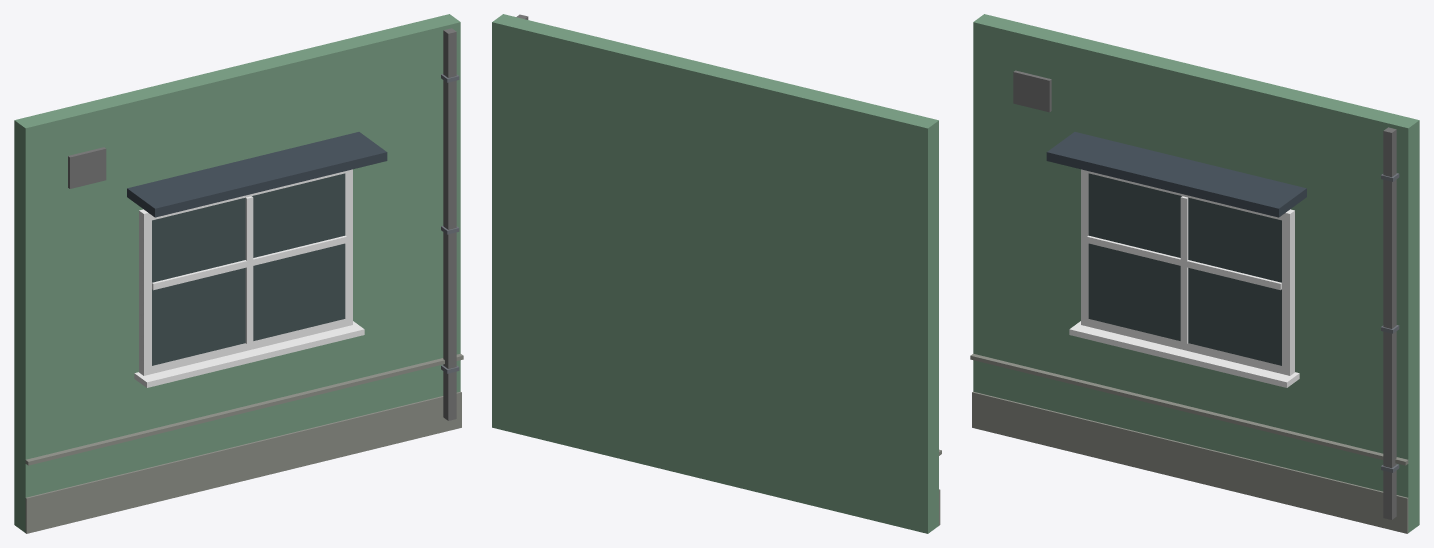
Rendered from mid-w1_close.fbx.
The picture shows the model from 3 angles, left to right: view 1: azimuth 30°, elevation 25°; view 2: azimuth 150°, elevation 25°; view 3: azimuth 330°, elevation 25°; orthographic projection.
Visible parts, largest first — view 1: a2014/500/mid-w1_close; view 2: a2014/500/mid-w1_close; view 3: a2014/500/mid-w1_close.
Part boxes in pixels (box(x1,y1,x2,y2)): a2014/500/mid-w1_close: box(14, 14, 463, 533); a2014/500/mid-w1_close: box(492, 14, 941, 533); a2014/500/mid-w1_close: box(970, 14, 1419, 533).
Bounding box in the file's own units: 3.6 × 3.2 × 0.56.
